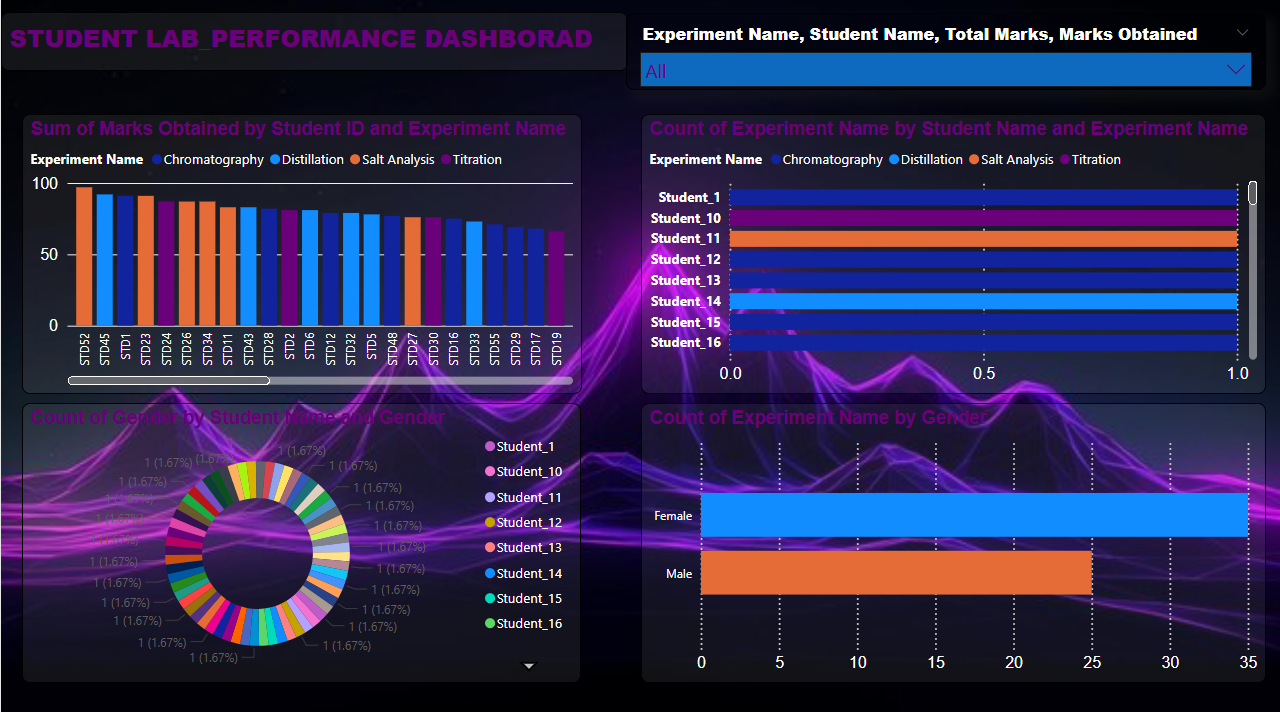

Layout of this report page (visuals, bound fields, positions):
{"tool":"powerbi","page":{"name":"Page 1","canvas":[1280,720],"ordinal":0},"visuals":[{"type":"clusteredBarChart","fields":{"Y":["student_lab_performance (1).Experiment Name"],"Category":["student_lab_performance (1).Gender"]},"box":[640,404.3,625.4,279.6],"z":0},{"type":"textbox","box":[0,13.5,626.6,58.4],"z":1000},{"type":"barChart","fields":{"Category":["student_lab_performance (1).Student Name"],"Y":["student_lab_performance (1).Experiment Name"],"Series":["student_lab_performance (1).Experiment Name"]},"box":[640,114.9,625.4,279.6],"z":2000},{"type":"columnChart","fields":{"Category":["student_lab_performance (1).Student ID"],"Y":["student_lab_performance (1).Marks Obtained"],"Series":["student_lab_performance (1).Experiment Name"]},"box":[21.4,114.9,559.1,279.6],"z":3000},{"type":"donutChart","fields":{"Category":["student_lab_performance (1).Student Name","student_lab_performance (1).Grade"],"Series":["student_lab_performance (1).Gender"],"Y":["student_lab_performance (1).Gender"]},"box":[21,404,559,280],"z":3001},{"type":"slicer","fields":{"Values":["student_lab_performance (1).Experiment Name","student_lab_performance (1).Student Name","student_lab_performance (1).Total Marks","student_lab_performance (1).Marks Obtained"]},"box":[625.4,13.6,640,77],"z":3002}]}

Visuals, with their boxes in screenshot pixels (x1, y1, x2, y2), scaled from the page's 1280x720 canvas onto the 1280x712 screenshot:
clusteredBarChart - student_lab_performance (1).Experiment Name x student_lab_performance (1).Gender: 640 400 1265 676
textbox: 0 13 627 71
barChart - student_lab_performance (1).Student Name x student_lab_performance (1).Experiment Name: 640 114 1265 390
columnChart - student_lab_performance (1).Student ID x student_lab_performance (1).Marks Obtained: 21 114 580 390
donutChart - student_lab_performance (1).Student Name x student_lab_performance (1).Grade: 21 400 580 676
slicer - student_lab_performance (1).Experiment Name x student_lab_performance (1).Student Name: 625 13 1265 90
